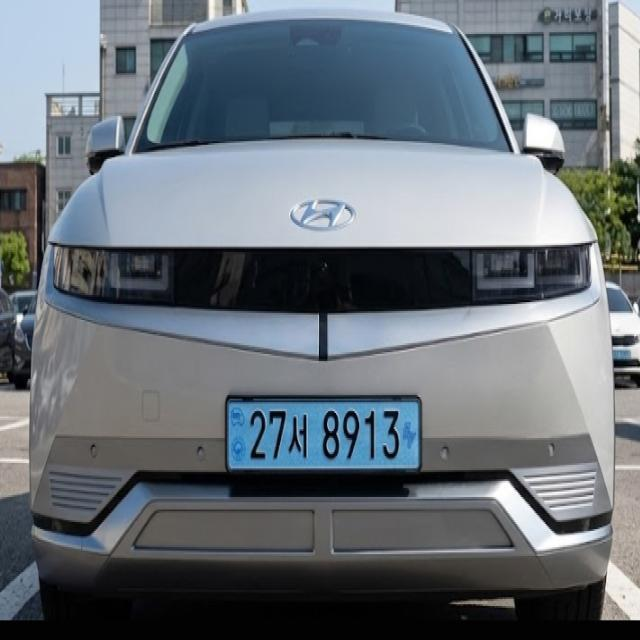car: (201, 375, 453, 499)
carev: (223, 390, 248, 482), (400, 392, 426, 476)
